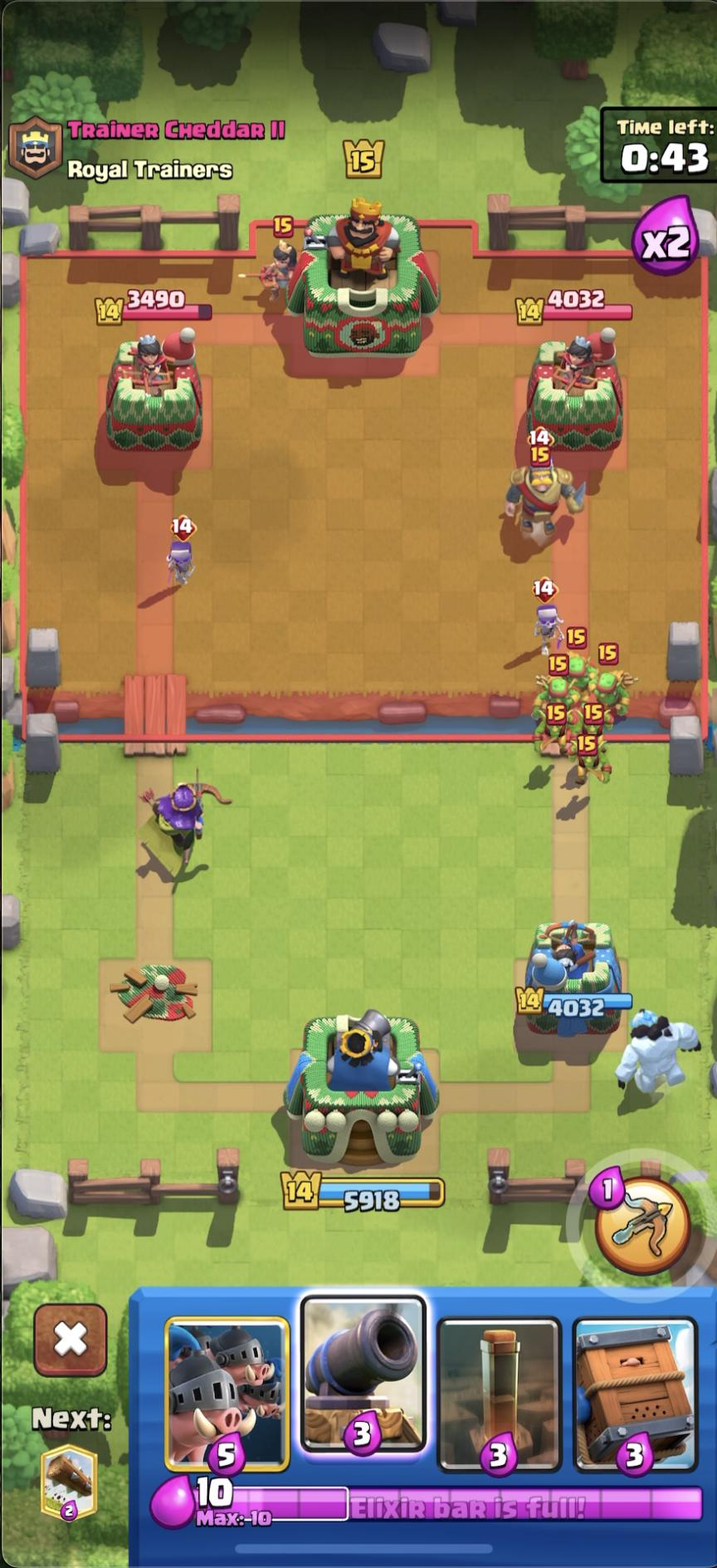card_cannon: (296, 1285, 430, 1465)
card_earthquake: (435, 1316, 563, 1476)
card_log: (38, 1444, 100, 1526)
card_royaldelivery: (571, 1317, 702, 1478)
card_royalhogs: (162, 1316, 289, 1479)
